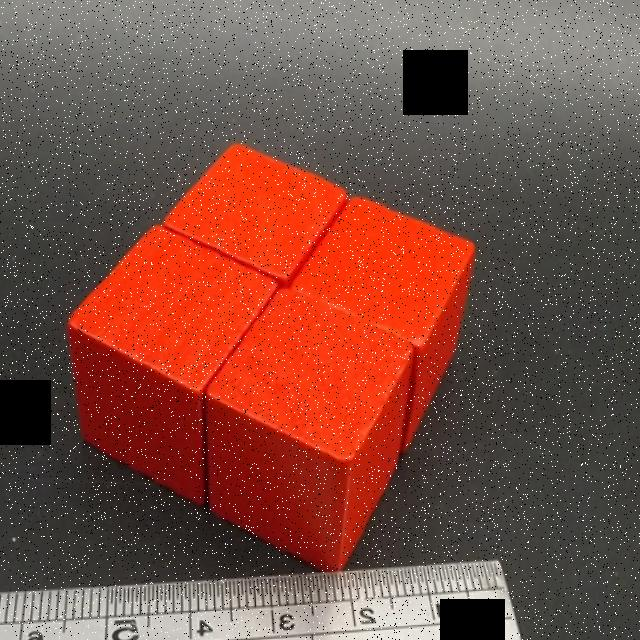red cube: (67, 223, 283, 504), (206, 283, 413, 574), (288, 194, 477, 454), (160, 140, 349, 289)
